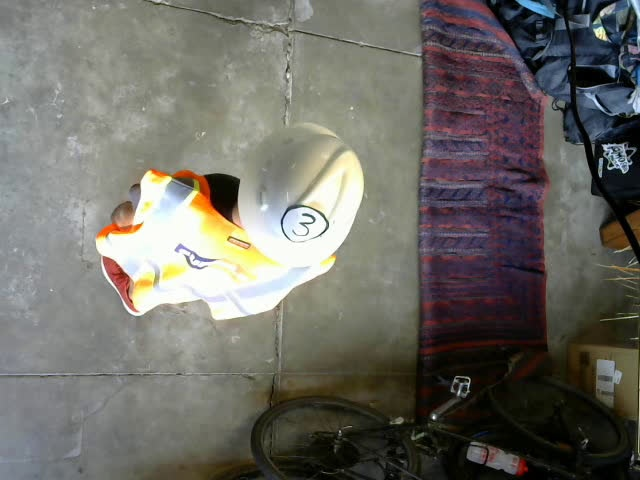three: (281, 205, 329, 245)
